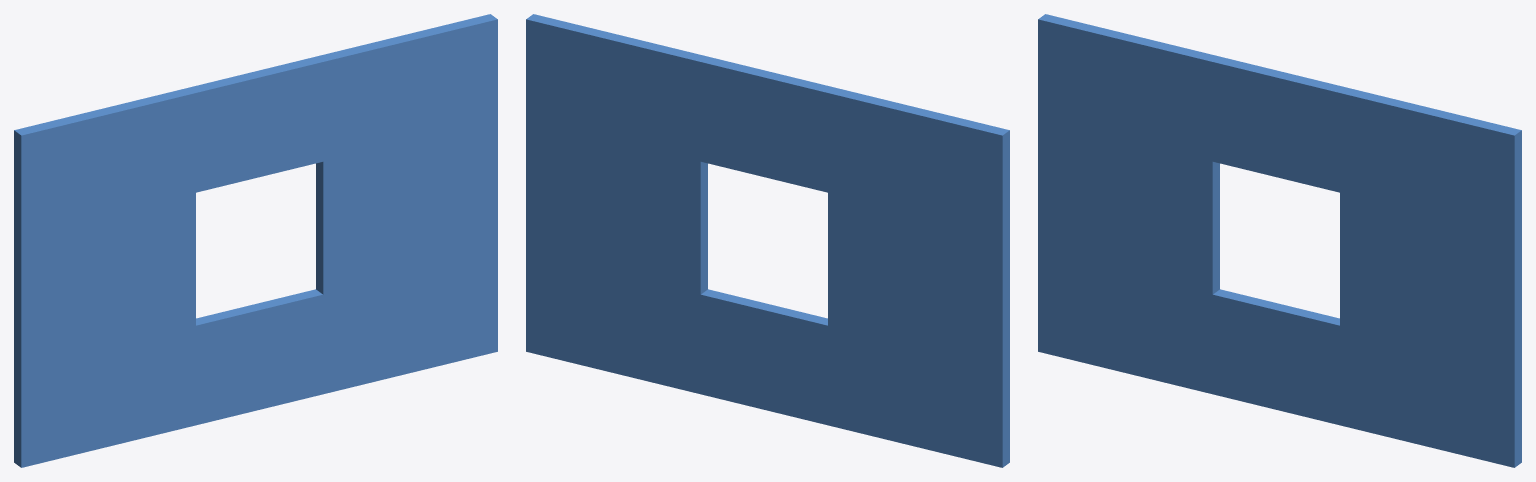
Rendered from cover_plate.glb.
The picture shows the model from 3 angles, left to right: view 1: azimuth 30°, elevation 25°; view 2: azimuth 150°, elevation 25°; view 3: azimuth 330°, elevation 25°; orthographic projection.
Size of the model in its own units: 0.15 by 0.1 by 0.004.
